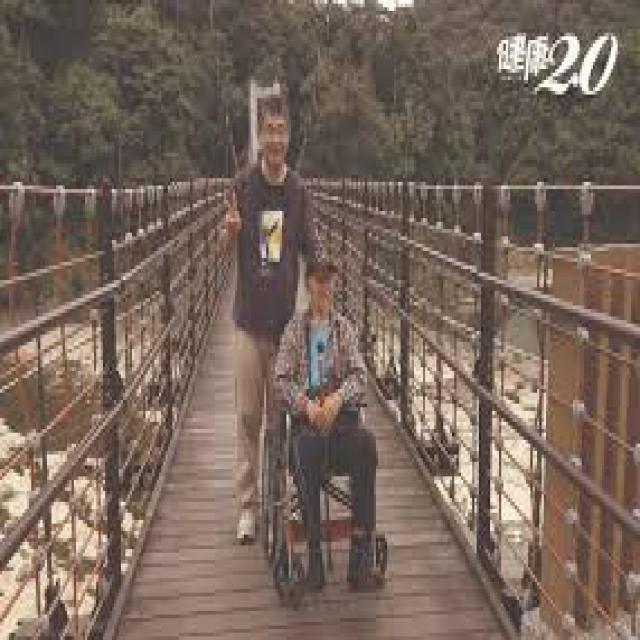wheelchairs: (250, 330, 410, 608)
